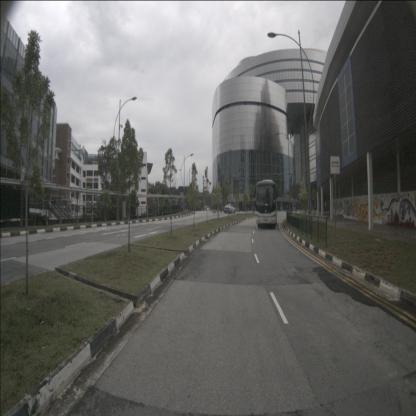human-pedestrian-adult: (324, 199, 327, 212)
vehicle-bus-rigid: (256, 179, 278, 229)
vehicle-car: (224, 202, 236, 214)
